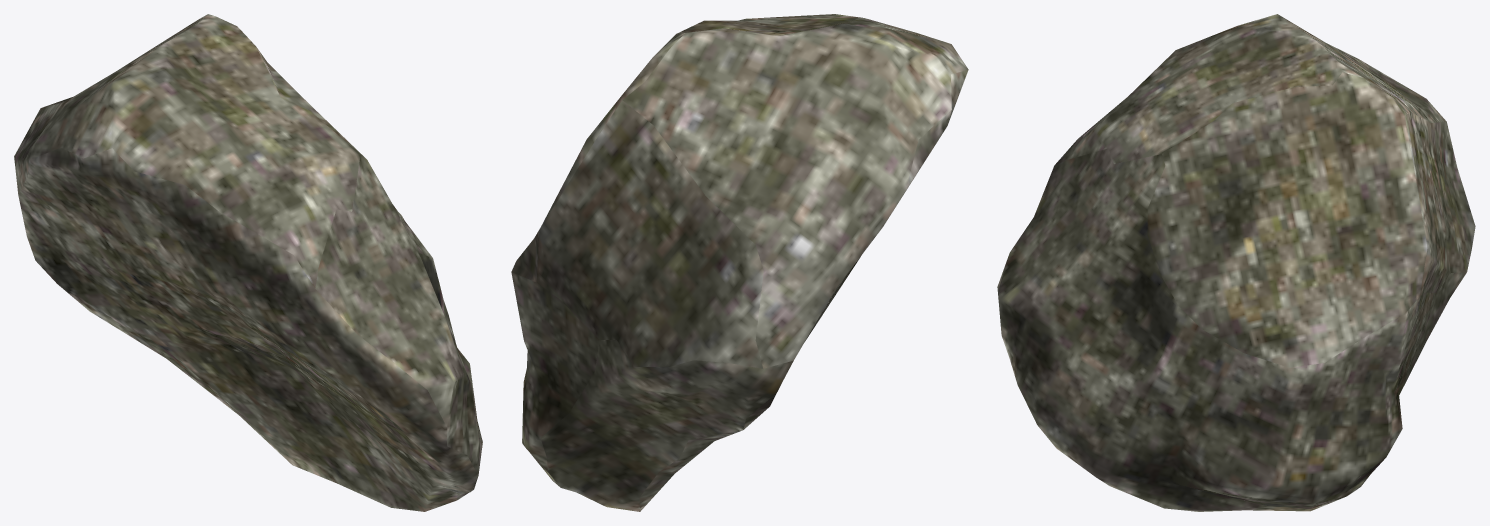
Rendered from SM_Small_Rock_06_LOD1.fbx.
3 views of the same model, side by side, from view 1: azimuth 30°, elevation 25°; view 2: azimuth 150°, elevation 25°; view 3: azimuth 270°, elevation 25° (orthographic). The views are drawn at different scales.
Parts seen in each view (by area): view 1: SM_Small_Rock_06_LOD1; view 2: SM_Small_Rock_06_LOD1; view 3: SM_Small_Rock_06_LOD1.
Boxes of the visible parts, x1,y1,x2,y2 form: SM_Small_Rock_06_LOD1: (14,14,482,511); SM_Small_Rock_06_LOD1: (511,14,968,511); SM_Small_Rock_06_LOD1: (997,14,1475,511).
Size of the model in its own units: 71.14 by 83.56 by 89.77.
